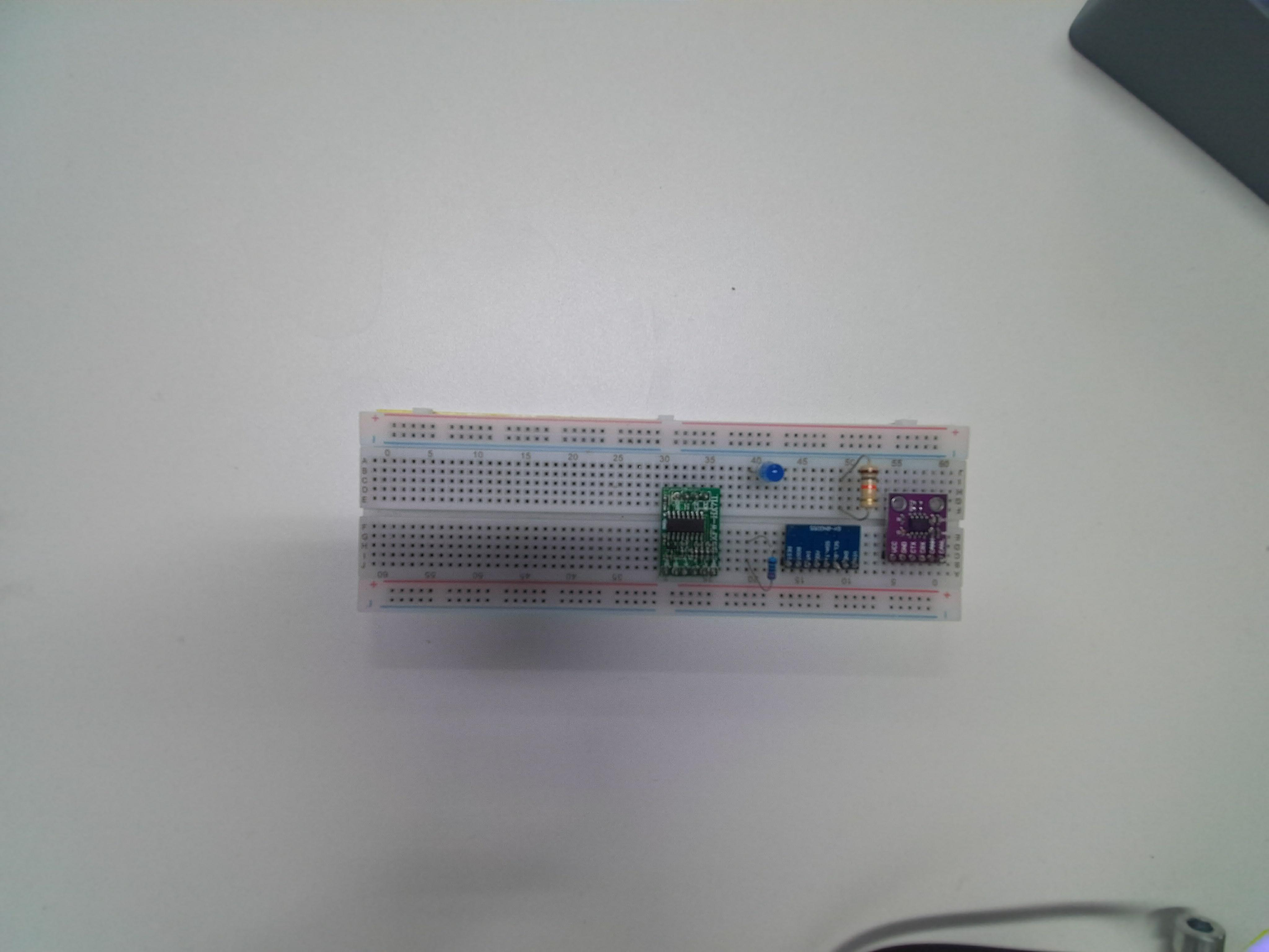base: (359, 405, 971, 628)
blue-board: (782, 523, 862, 573)
blue-led: (760, 462, 785, 488)
green-board: (657, 484, 724, 581)
purple-board: (882, 490, 949, 565)
resistor-big: (860, 463, 878, 511)
resistor-small: (766, 554, 777, 582)
